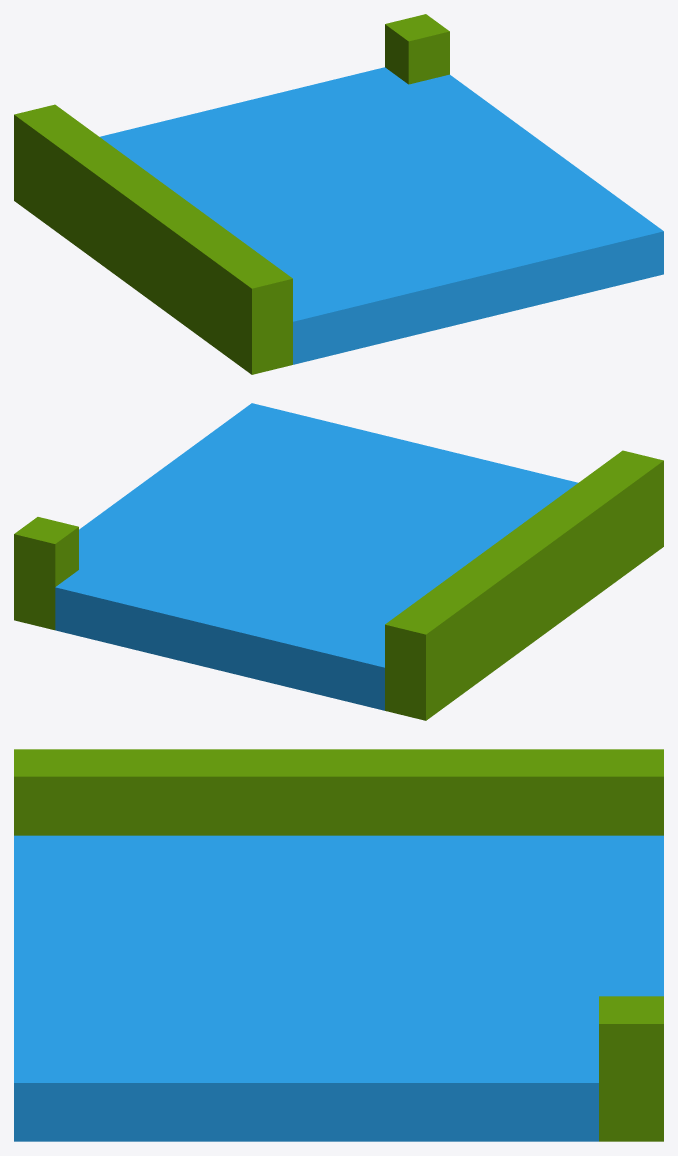
The model's file is TileWater_10.fbx.
The picture shows the model from 3 angles, top to bottom: view 1: azimuth 30°, elevation 25°; view 2: azimuth 150°, elevation 25°; view 3: azimuth 270°, elevation 25°; orthographic projection. The views are drawn at different scales.
Visible parts, largest first — view 1: TileWater_10; view 2: TileWater_10; view 3: TileWater_10.
Part boxes in pixels (x1,y1,x2,y2): TileWater_10: [14, 14, 663, 374]; TileWater_10: [14, 403, 663, 720]; TileWater_10: [14, 749, 663, 1141].
Size of the model in its own units: 500 by 100 by 500.
